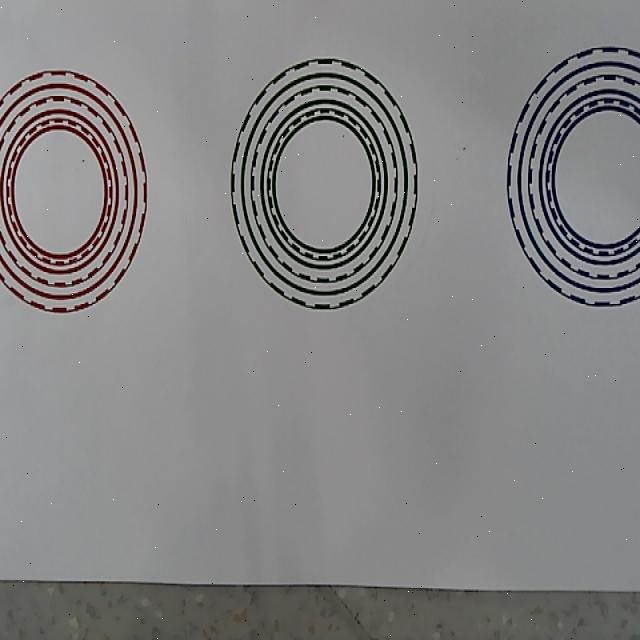g: (230, 57, 418, 310)
